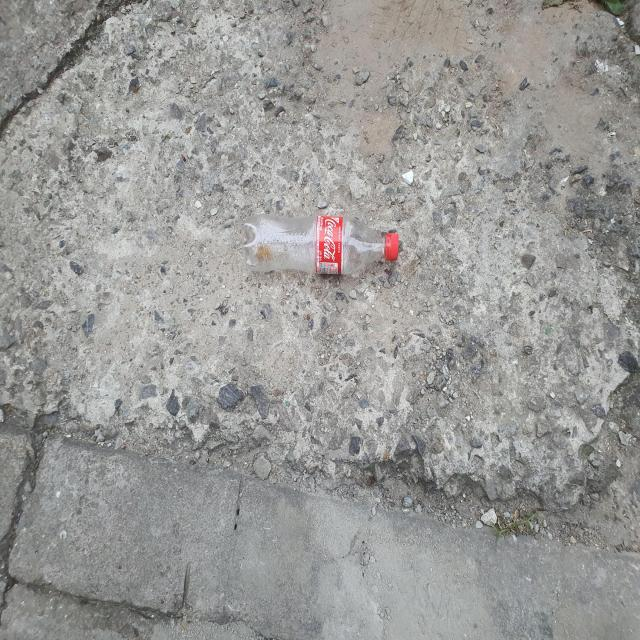plastic: (243, 214, 399, 274)
